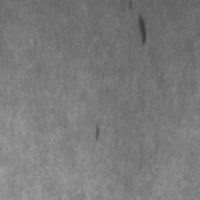inclusion: (125, 1, 150, 48), (89, 120, 104, 146)
